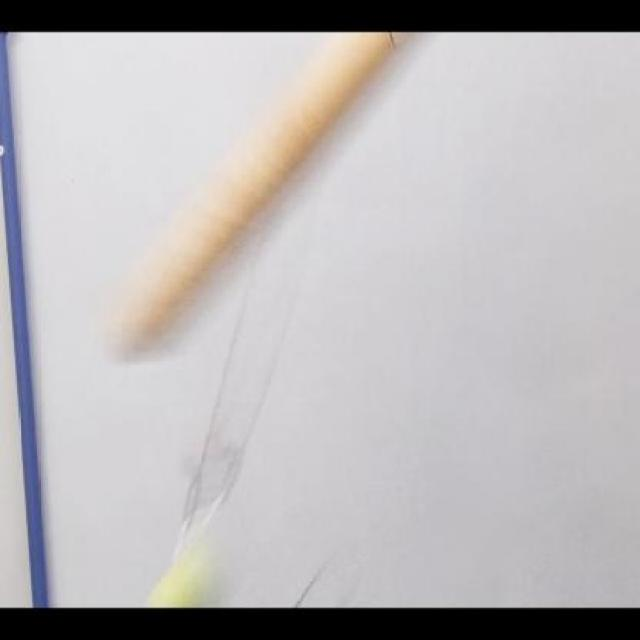baseball: (138, 539, 230, 603)
